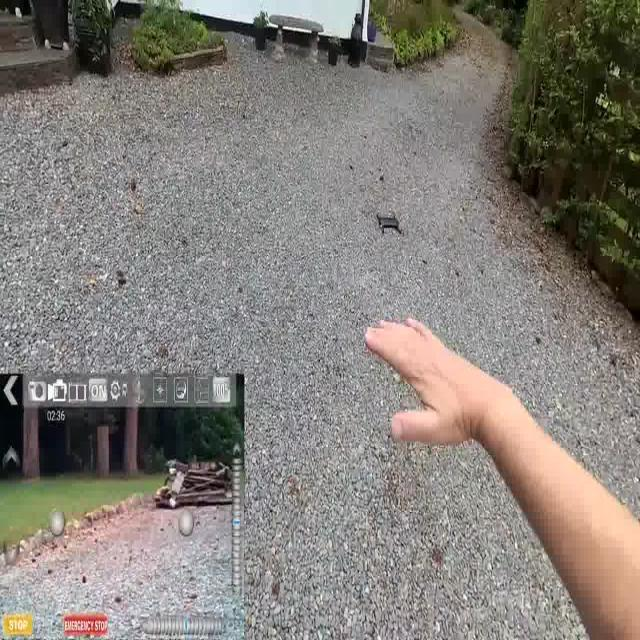drone: (374, 208, 403, 236)
